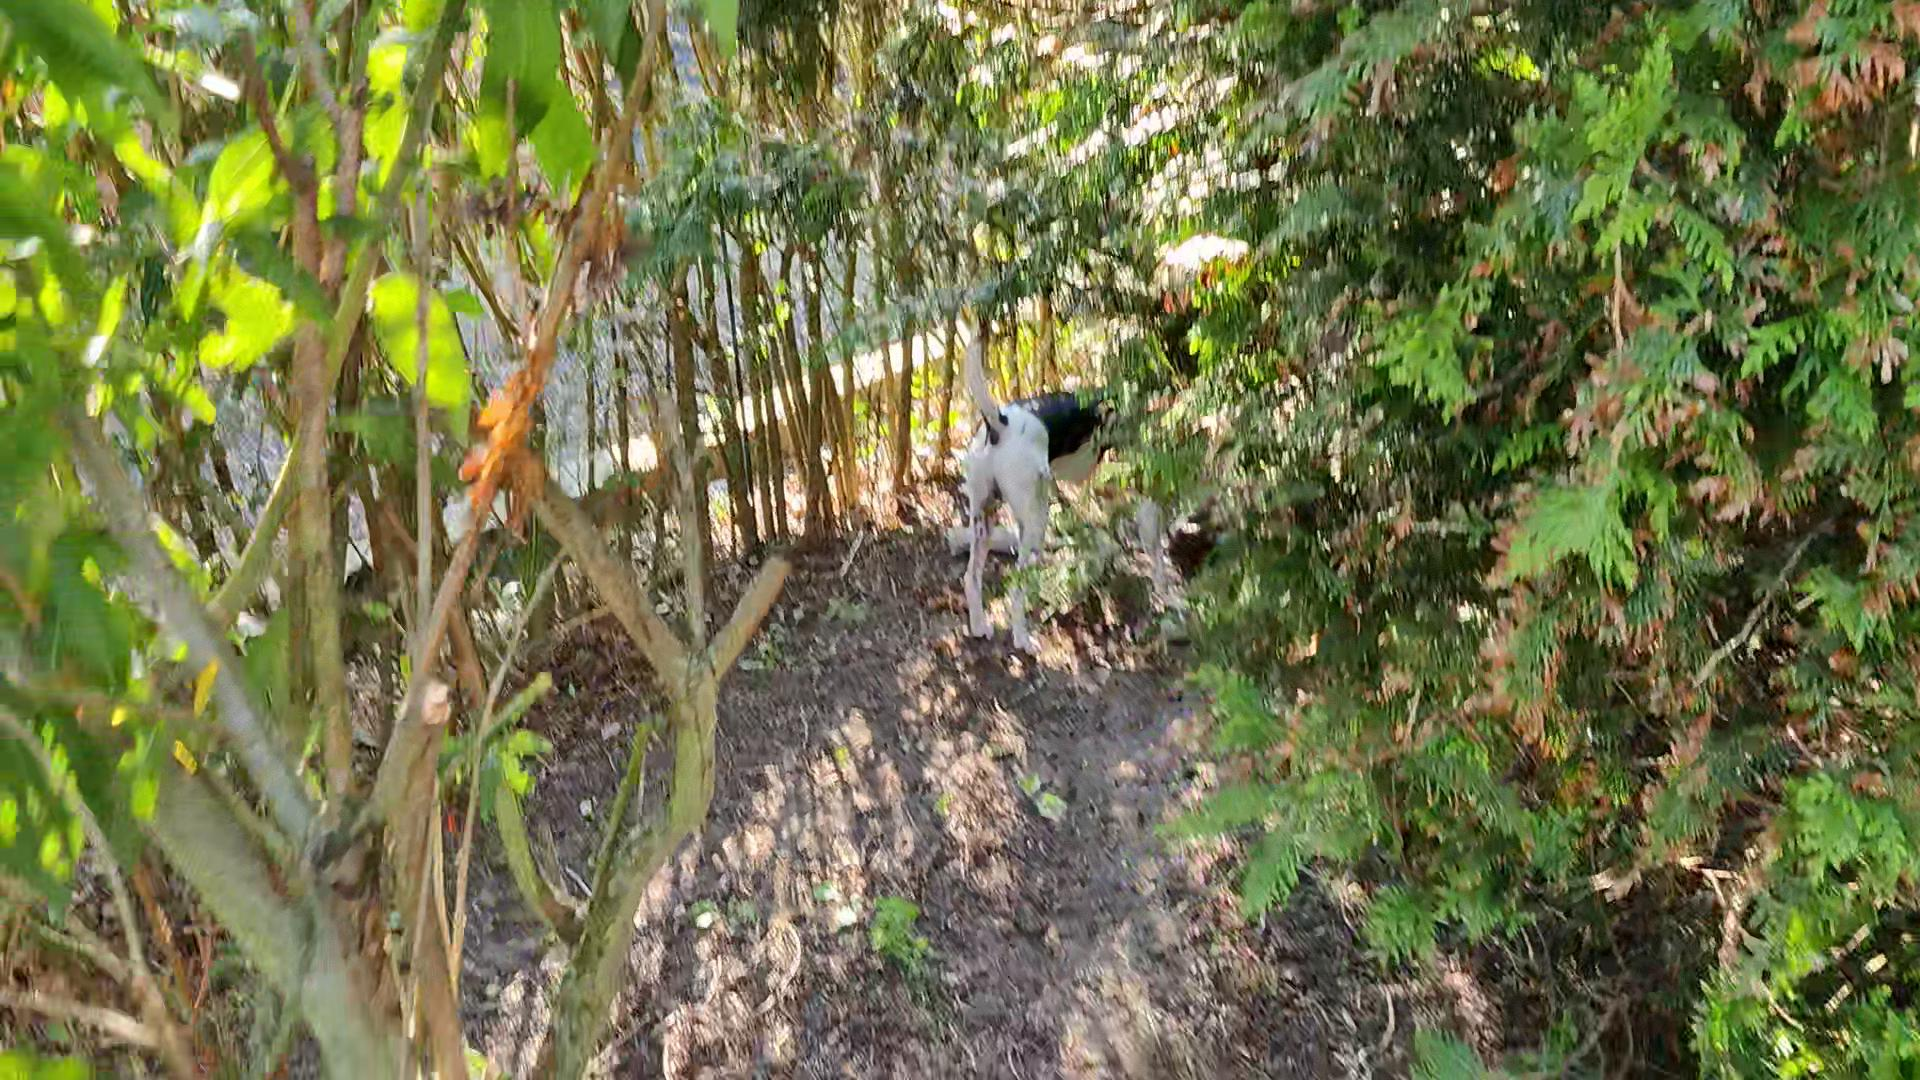Dog: (939, 301, 1193, 662)
